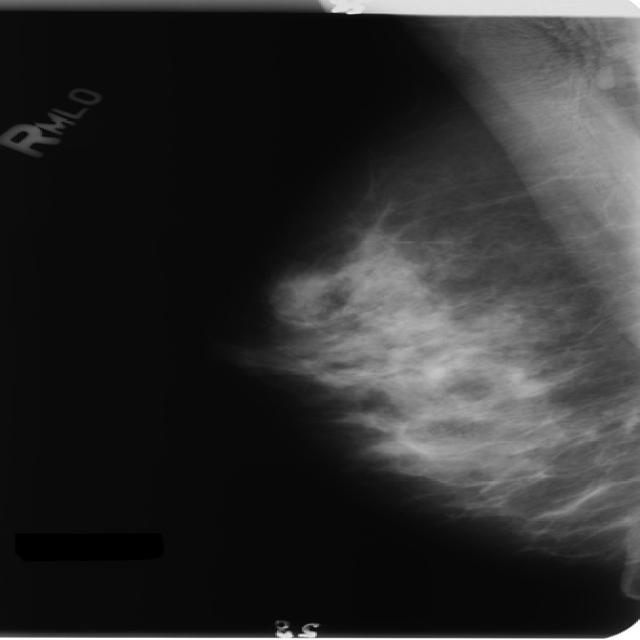tumour: (270, 270, 330, 321)
